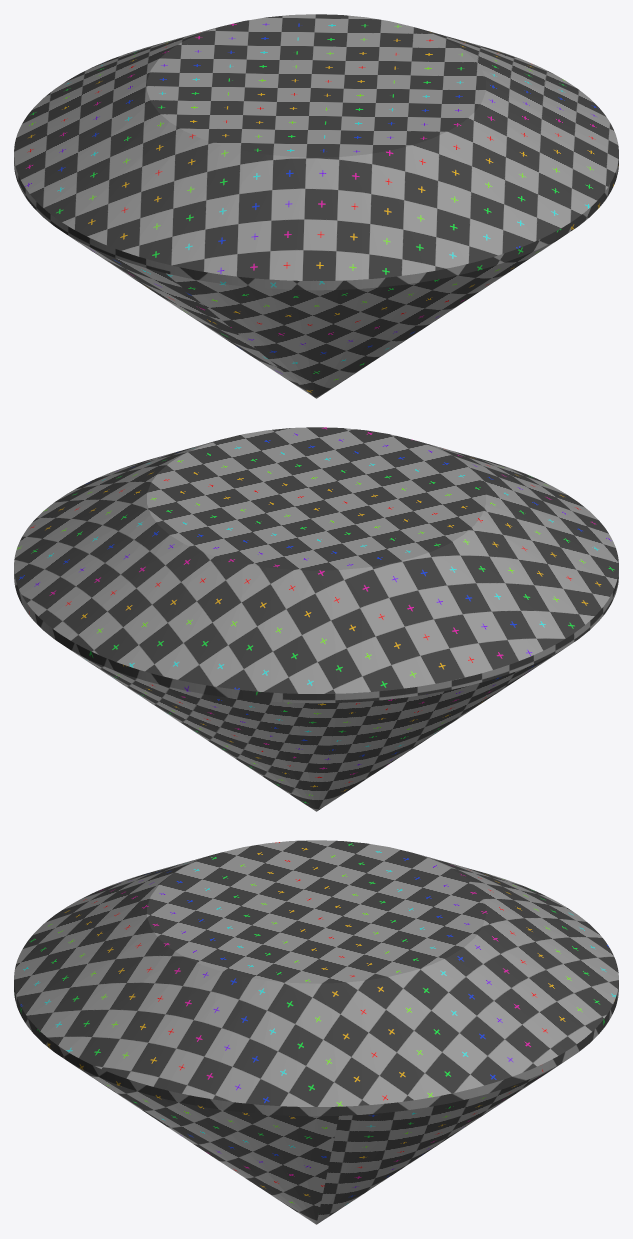
Rendered from gem_uv.gltf.
The picture shows the model from 3 angles, top to bottom: view 1: azimuth 30°, elevation 25°; view 2: azimuth 150°, elevation 25°; view 3: azimuth 270°, elevation 25°; orthographic projection.
Visible parts, largest first — view 1: Gem; view 2: Gem; view 3: Gem.
Part boxes in pixels (<box>): Gem: <box>14,14,618,398</box>; Gem: <box>14,427,618,811</box>; Gem: <box>14,840,618,1224</box>.
Size of the model in its own units: 2 by 1.14 by 2.
Materials: 1 (1 with a texture image).
